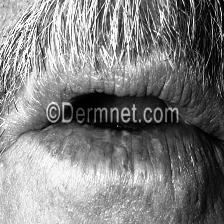Benign Marking or Mole: (100, 130, 170, 168)
